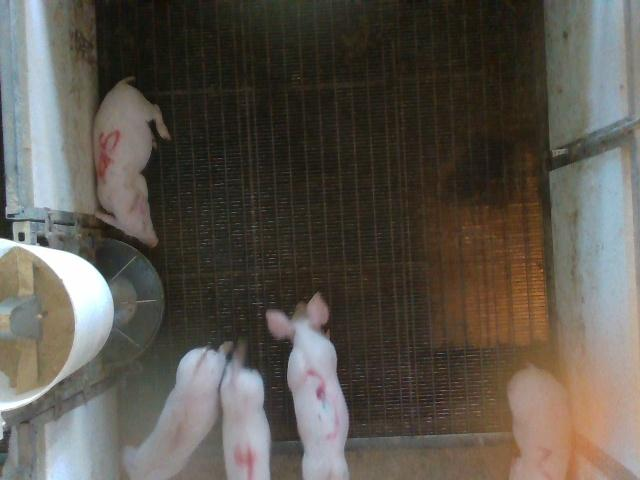pig-1: (122, 342, 232, 479)
pig-2: (508, 365, 571, 478)
pig-4: (266, 292, 349, 478), (220, 341, 271, 480)
pig-5: (94, 76, 170, 247)
